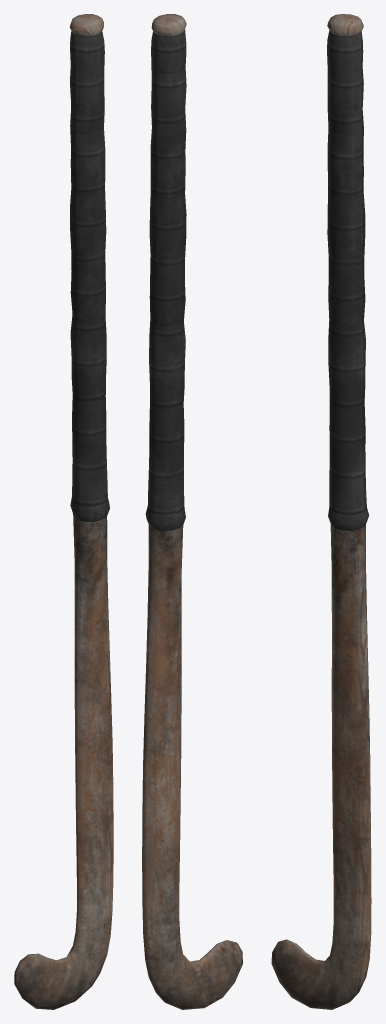
File: hockeystick.fbx
The picture shows the model from 3 angles, left to right: view 1: azimuth 30°, elevation 25°; view 2: azimuth 210°, elevation 25°; view 3: azimuth 330°, elevation 25°; orthographic projection.
Visible parts, largest first — view 1: Hockey_Stick; view 2: Hockey_Stick; view 3: Hockey_Stick.
Part boxes in pixels (x1=…): Hockey_Stick: x1=14, y1=14, x2=113, y2=1009; Hockey_Stick: x1=142, y1=14, x2=242, y2=1009; Hockey_Stick: x1=271, y1=14, x2=371, y2=1009.
Size of the model in its own units: 9.89 by 94.75 by 3.45.
